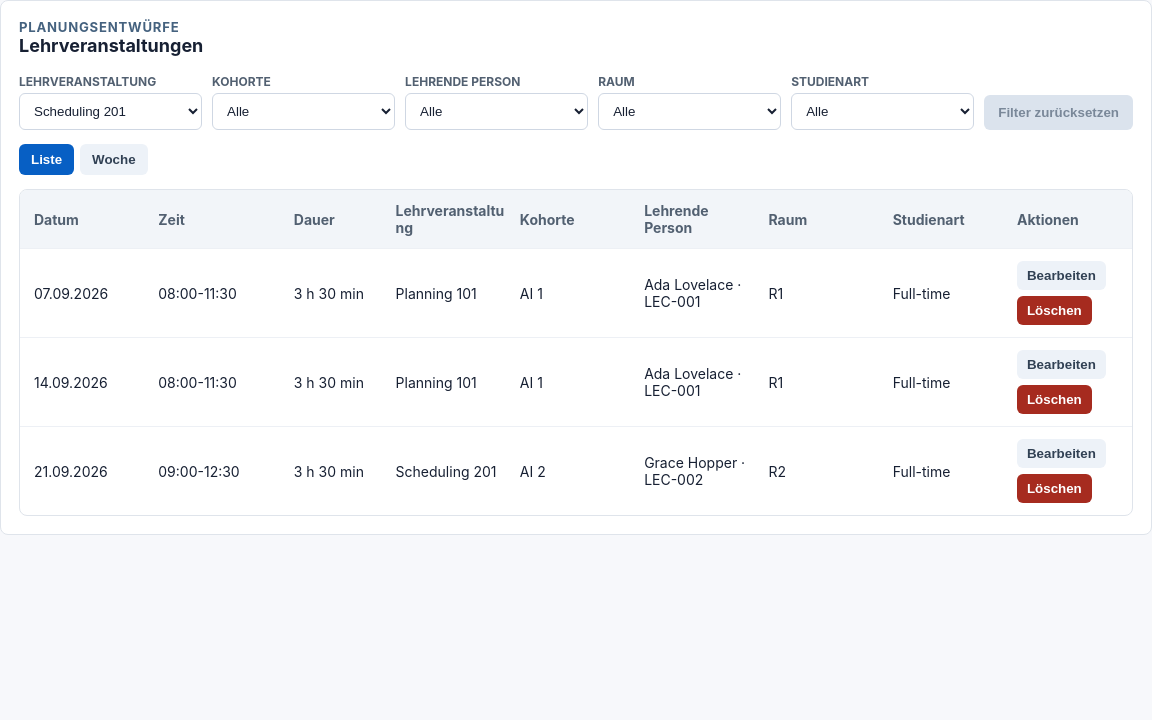
DraftSchedulePanel › builds compact overview filters from all generated plans
Select "Scheduling 201" in the dropdown named "courseId" at (110, 112), box [19,93,202,130]
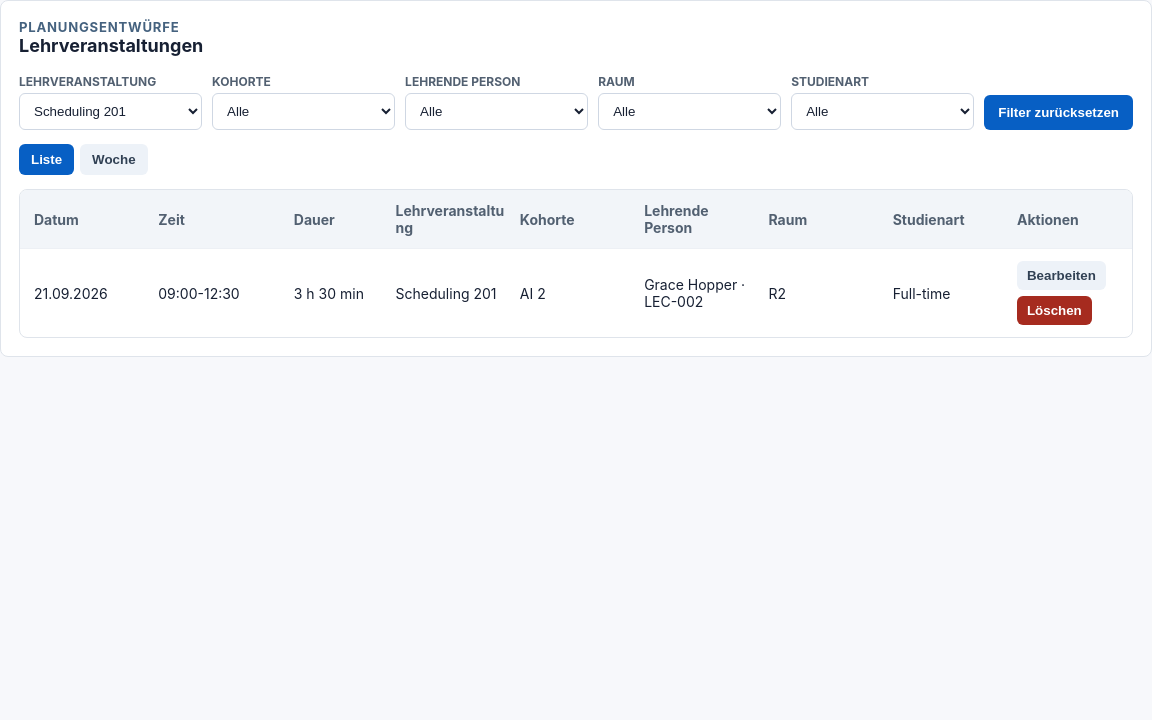
Expected: the element with class "session-row" shows "Scheduling 201", [396,284,496,302]
Expected: the text with class "session-row" no longer shows "Planning 101"
